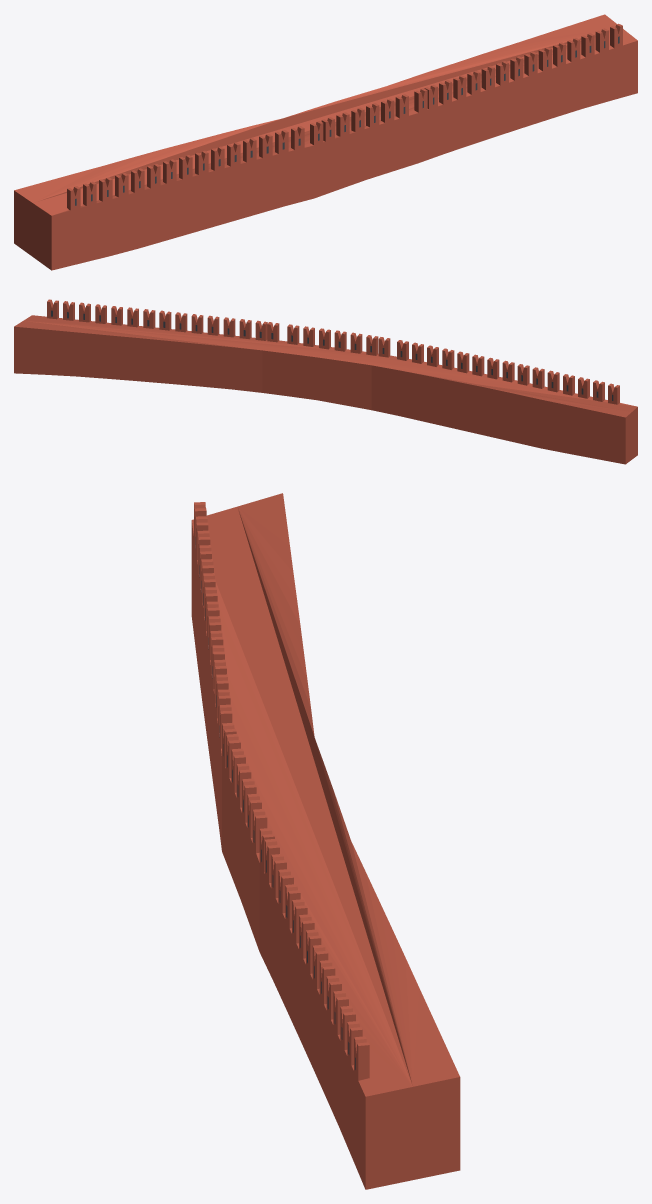
File: moscow-kremlin-wall-first-second-unnamed.glb
3 views of the same model, one above another, from view 1: azimuth 30°, elevation 25°; view 2: azimuth 150°, elevation 25°; view 3: azimuth 270°, elevation 25° (orthographic). The views are drawn at different scales.
Visible parts, largest first — view 1: Kremlin Wall, First Unnamed Tower to Second Unnamed Tower; view 2: Kremlin Wall, First Unnamed Tower to Second Unnamed Tower; view 3: Kremlin Wall, First Unnamed Tower to Second Unnamed Tower.
Boxes of the visible parts, x1,y1,x2,y2 form: Kremlin Wall, First Unnamed Tower to Second Unnamed Tower: (14, 14, 637, 270); Kremlin Wall, First Unnamed Tower to Second Unnamed Tower: (14, 299, 637, 464); Kremlin Wall, First Unnamed Tower to Second Unnamed Tower: (191, 493, 460, 1189).
Bounding box in the file's own units: 78.27 × 10.19 × 15.88.
